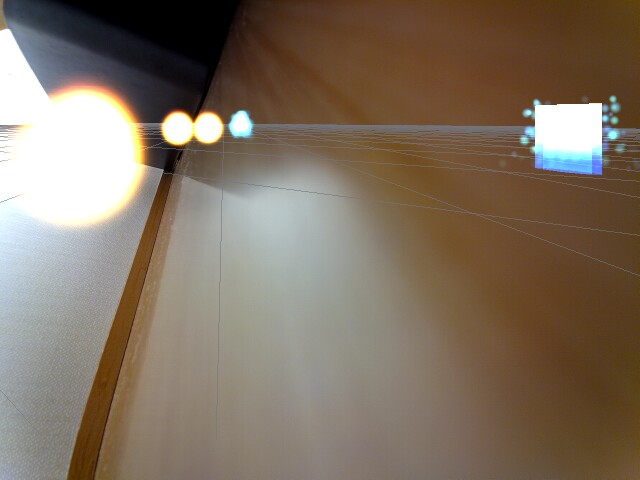firebig: (4, 64, 157, 242)
